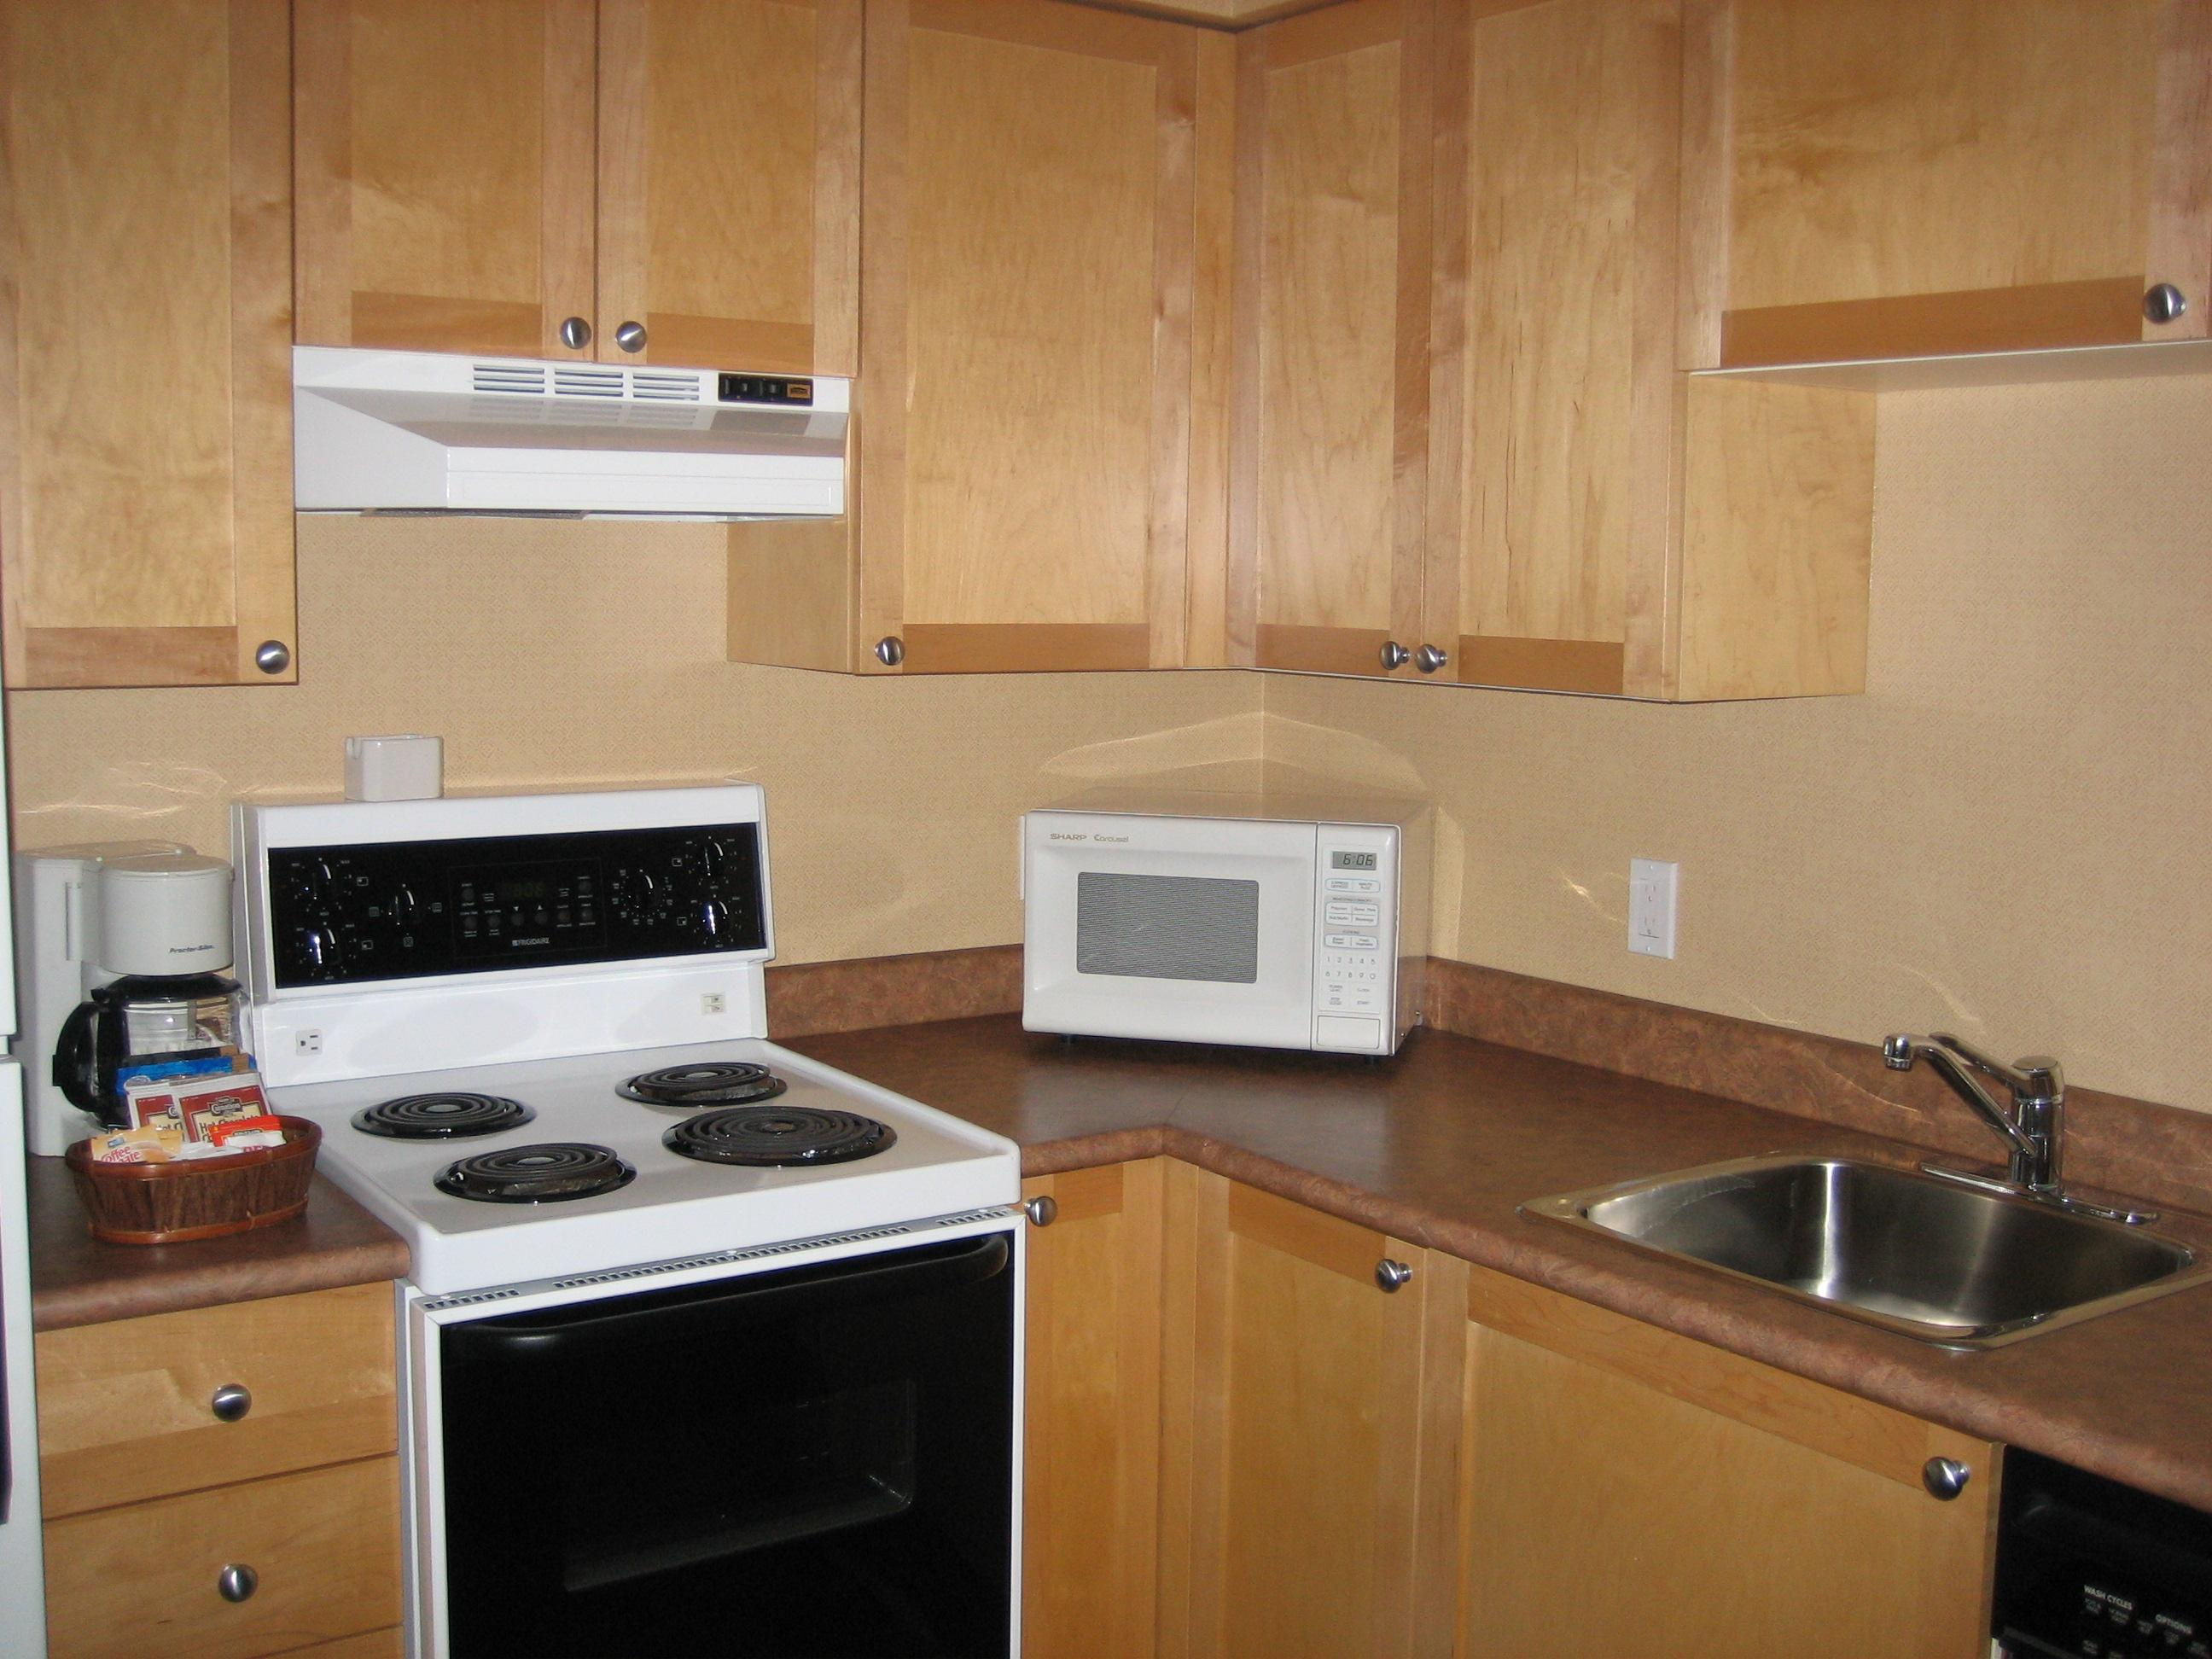Electrodomestico: (303, 850, 1022, 1654)
Lavaplatos: (1630, 1021, 2184, 1345)
